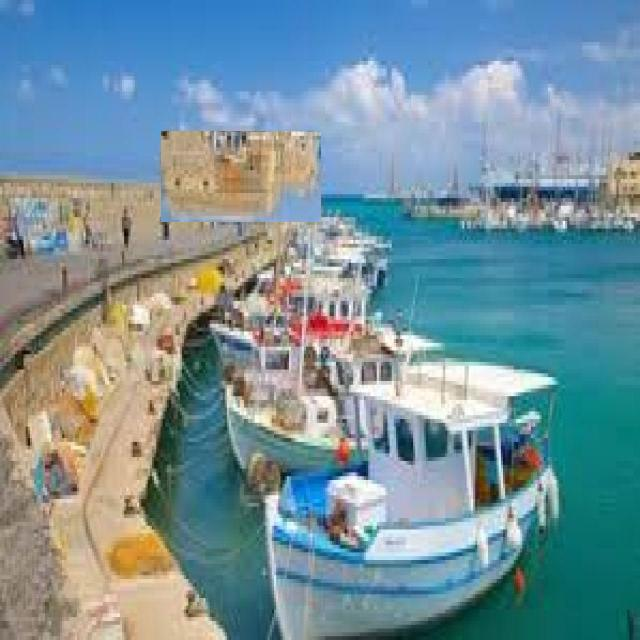Kules: (162, 132, 322, 223)
